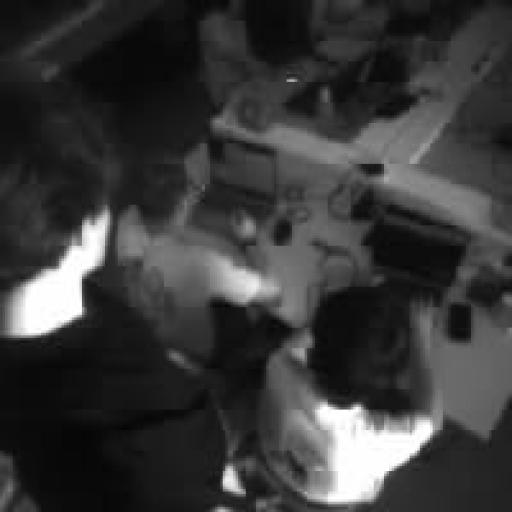human: (0, 64, 227, 511), (259, 282, 442, 506), (116, 162, 281, 363), (192, 0, 432, 107), (195, 0, 309, 107)
